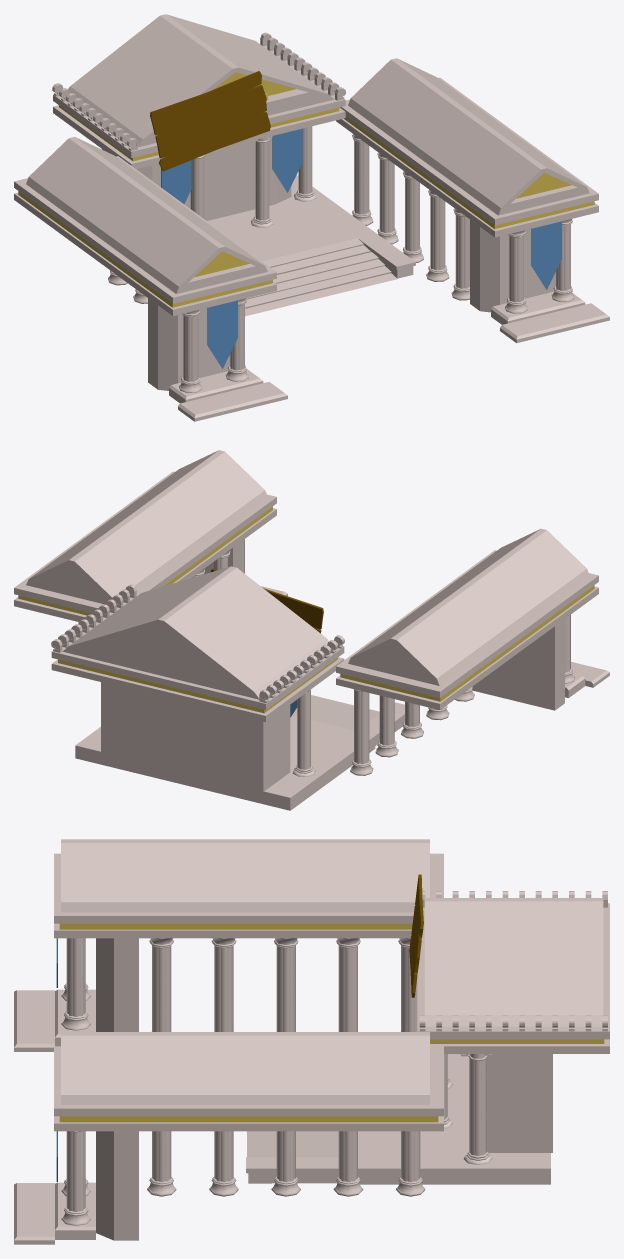
Rendered from Oasis.fbx.
3 views of the same model, one above another, from view 1: azimuth 30°, elevation 25°; view 2: azimuth 150°, elevation 25°; view 3: azimuth 270°, elevation 25° (orthographic). The views are drawn at different scales.
Parts seen in each view (by area): view 1: Cube.048, Cube.040, Cube.046, Cube.049, Cube.037, Columnas_1.001, Cartel.001, Cube.047, Cube.038, Columnas_1.003, Cube.039, Cube.045 (+7 smaller); view 2: Cube.048, Cube.040, Cube.039, Cube.046, Cube.037, Cube.045, Cube.049, Columnas_1.001, Cube.041, Cube.038, Columnas_1.007, Cube.042 (+3 smaller); view 3: Cube.048, Cube.040, Cube.046, Columnas_1.001, Cube.037, Cube.049, Cube.047, Cube.039, Cube.045, Columnas_1.003, Columnas_1.007, Cube.038 (+3 smaller).
Boxes of the visible parts, x1,y1,x2,y2 form: Cube.048: (26,58,589,293); Cube.040: (68,14,334,147); Cube.046: (14,77,598,315); Cube.049: (148,219,555,390); Cube.037: (207,175,415,278); Columnas_1.001: (108,134,469,303); Cartel.001: (150,71,270,171); Cube.047: (169,291,609,421); Cube.038: (245,238,397,316); Columnas_1.003: (179,219,574,392); Cube.039: (102,136,291,220); Cube.045: (53,45,345,168); Cube.048: (26,450,589,685); Cube.040: (63,566,328,699); Cube.039: (101,682,290,791); Cube.046: (14,471,598,709); Cube.037: (75,702,404,810); Cube.045: (51,597,344,722); Cube.049: (204,540,564,710); Columnas_1.001: (192,550,474,775); Cube.041: (51,584,136,652); Cube.038: (292,695,379,730); Columnas_1.007: (292,689,315,776); Cube.042: (259,635,344,702); Cube.048: (61,839,429,1104); Cube.040: (424,898,603,1026); Cube.046: (54,853,443,1131); Columnas_1.001: (147,938,425,1196); Cube.037: (246,1054,550,1184); Cube.049: (96,938,138,1240); Cube.047: (14,989,95,1244); Cube.039: (486,1054,552,1152); Cube.045: (417,903,609,1053); Columnas_1.003: (61,938,90,1225); Columnas_1.007: (460,1054,495,1164); Cube.038: (247,1131,338,1173).
Bounding box in the file's own units: 2820 × 1140 × 2784.
